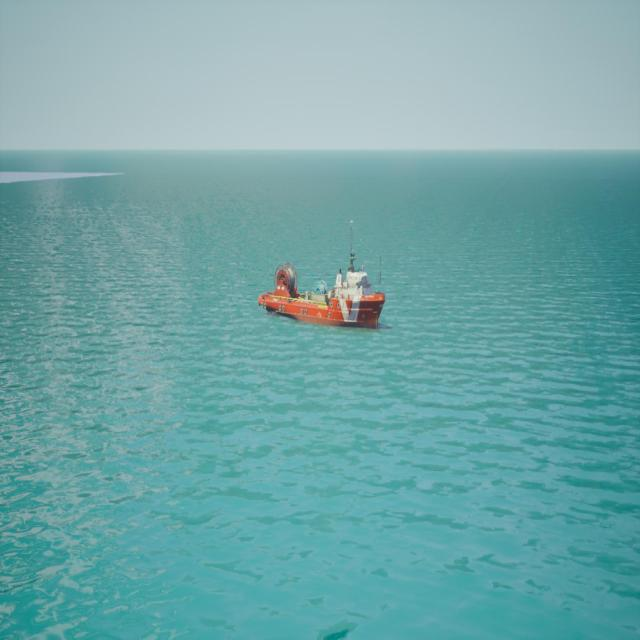tug boat: (259, 223, 388, 335)
